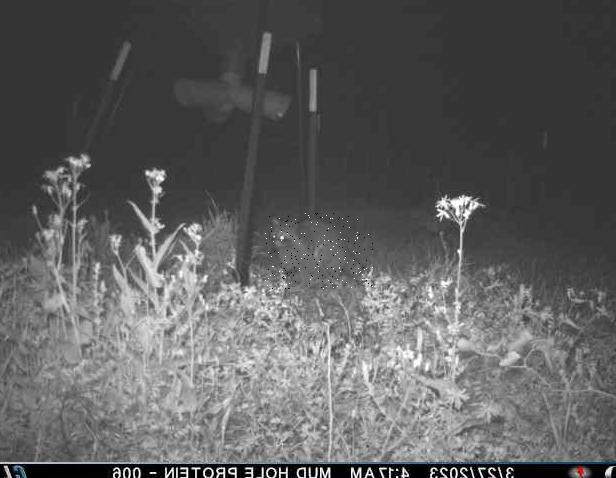Raccoon: (264, 213, 372, 289)
